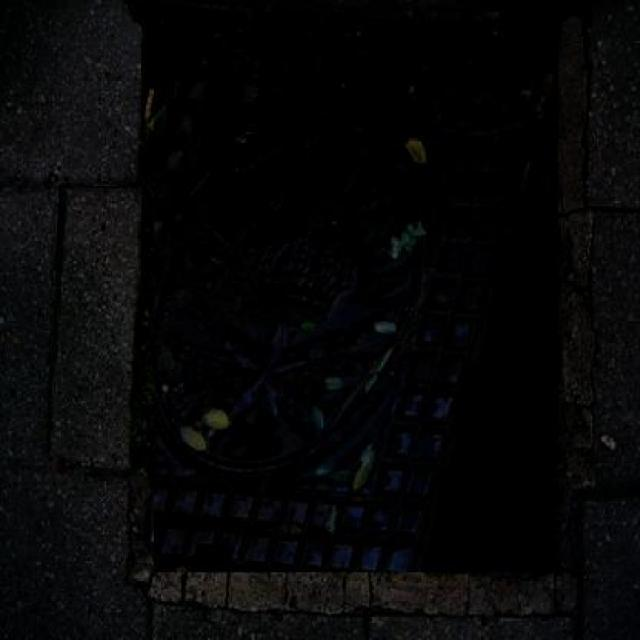Manhole: (154, 36, 558, 572)
